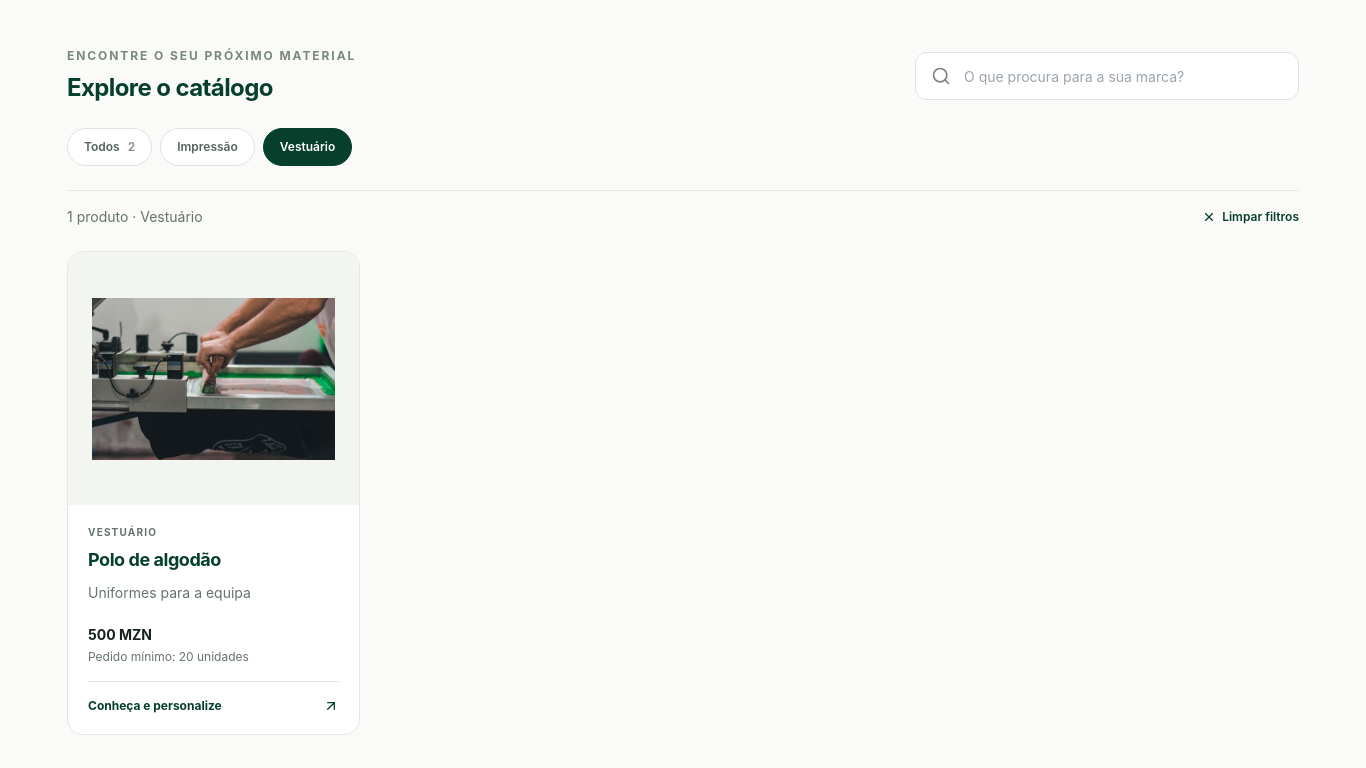
Test: Catalogue experience › filters deep-linked categories and resets empty results
Type "nenhum" into the search field at (1107, 76), box [915,52,1299,100]
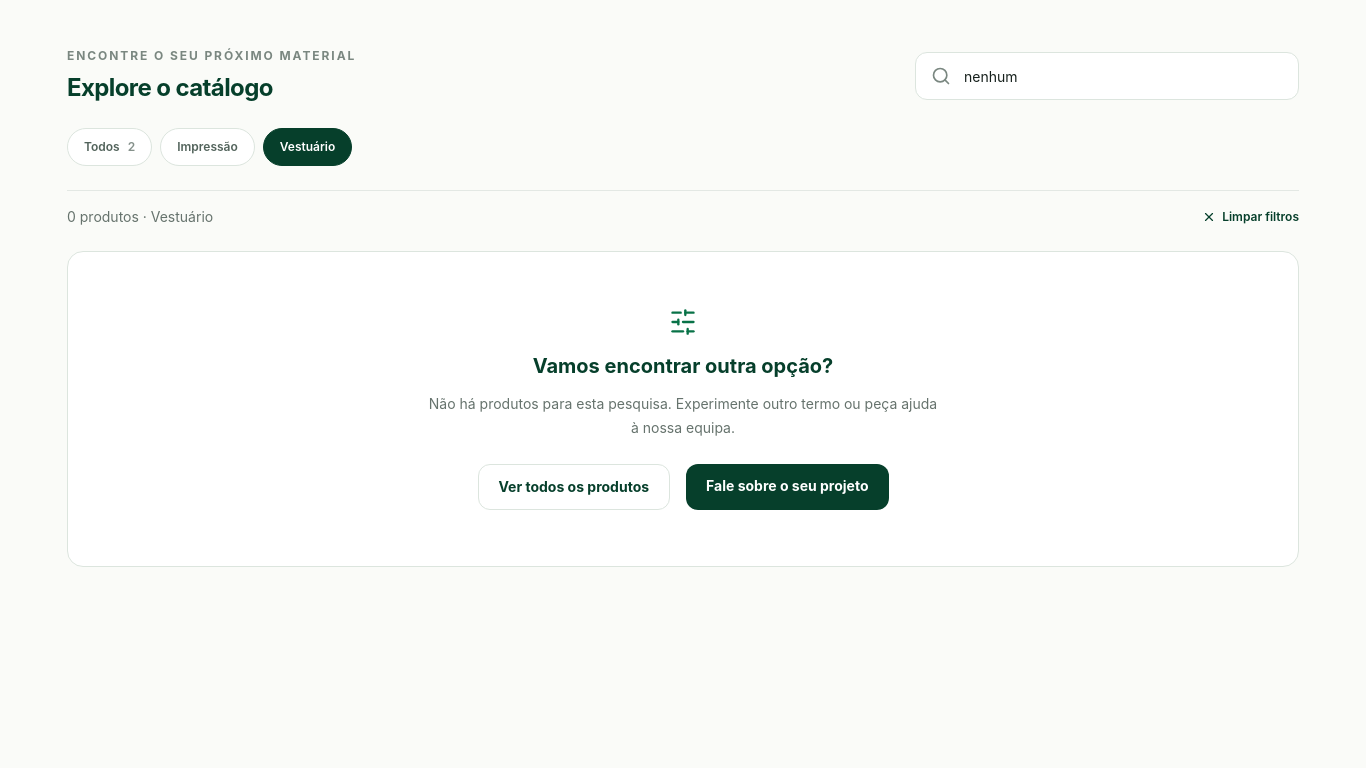
Click the button "Limpar filtros" at (1251, 217), box [1202,209,1299,225]
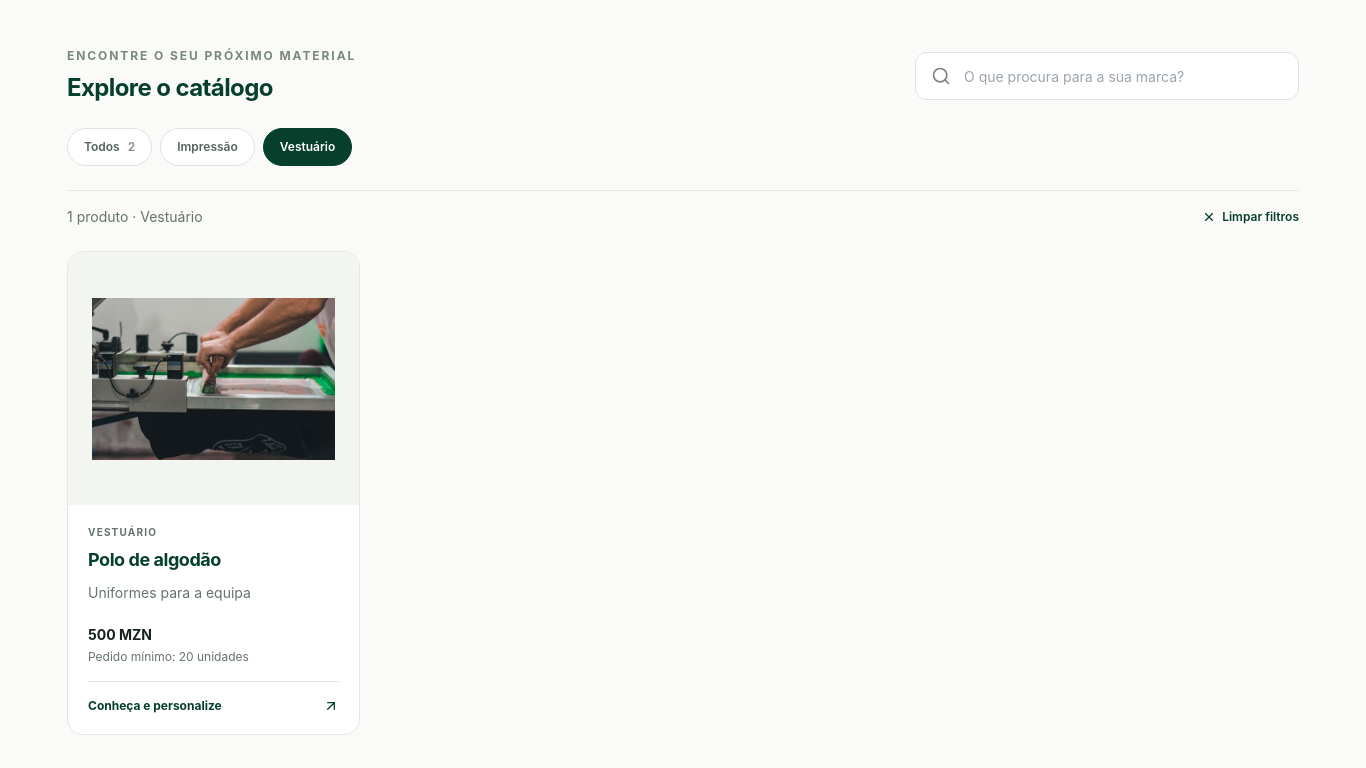
Expected: the search field is empty, [915,52,1299,100]
